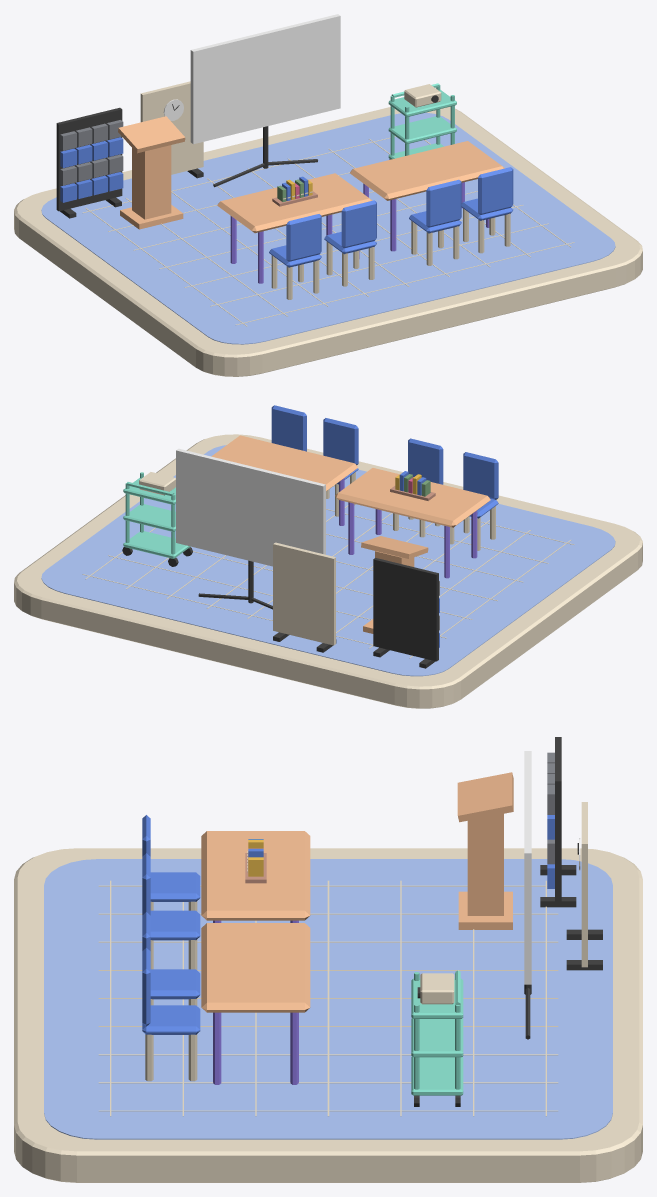
The picture shows the model from 3 angles, top to bottom: view 1: azimuth 30°, elevation 25°; view 2: azimuth 150°, elevation 25°; view 3: azimuth 270°, elevation 25°; orthographic projection. The views are drawn at different scales.
Parts seen in each view (by area): view 1: COM-02 Floor Surface, COM-01 Rounded Base Direct, Screen, Rounded table top.001, Rounded table top, Body, Panel.001, Panel, Reading top, Backrest.003, Backrest, Backrest.002 (+5 smaller); view 2: COM-02 Floor Surface, COM-01 Rounded Base Direct, Screen, Panel, Panel.001, Rounded table top, Rounded table top.001, Backrest, Backrest.002, Backrest.003, Backrest.001, Tray (+4 smaller); view 3: COM-02 Floor Surface, COM-01 Rounded Base Direct, Rounded table top.001, Rounded table top, Body, Reading top, Screen, Tray.001, Tray, Seat.003, Seat.001, Seat.002 (+14 smaller).
Part boxes in pixels (x1,y1,x2,y2): COM-02 Floor Surface: (41,112,615,344); COM-01 Rounded Base Direct: (14,106,642,376); Screen: (190,14,340,144); Rounded table top.001: (350,141,504,200); Rounded table top: (217,173,372,233); Body: (132,145,171,219); Panel.001: (140,81,203,174); Panel: (56,107,122,211); Reading top: (118,116,185,153); Backrest.003: (478,167,513,214); Backrest: (286,214,321,261); Backrest.002: (426,179,461,227); COM-02 Floor Surface: (41,445,615,676); COM-01 Rounded Base Direct: (14,434,642,708); Screen: (176,448,325,566); Panel: (373,558,438,661); Panel.001: (273,542,335,645); Rounded table top: (335,468,490,527); Rounded table top.001: (211,435,357,491); Backrest: (463,452,498,499); Backrest.002: (323,418,358,464); Backrest.003: (271,405,306,451); Backrest.001: (408,438,443,484); Tray: (123,531,190,558); COM-02 Floor Surface: (44,859,612,1139); COM-01 Rounded Base Direct: (14,848,642,1182); Rounded table top.001: (201,923,310,1012); Rounded table top: (201,831,310,920); Body: (467,814,503,915); Reading top: (457,772,513,822); Screen: (524,751,531,984); Tray.001: (411,1018,463,1057); Tray: (411,1056,463,1095); Seat.003: (142,1005,200,1034); Seat.001: (150,910,200,940); Seat.002: (150,969,200,999).
Bounding box in the file's own units: 6 × 2.14 × 5.2.
1 material, 1 textured.
